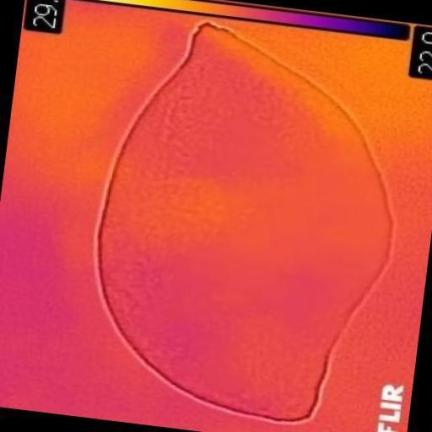mango: (98, 25, 389, 420)
